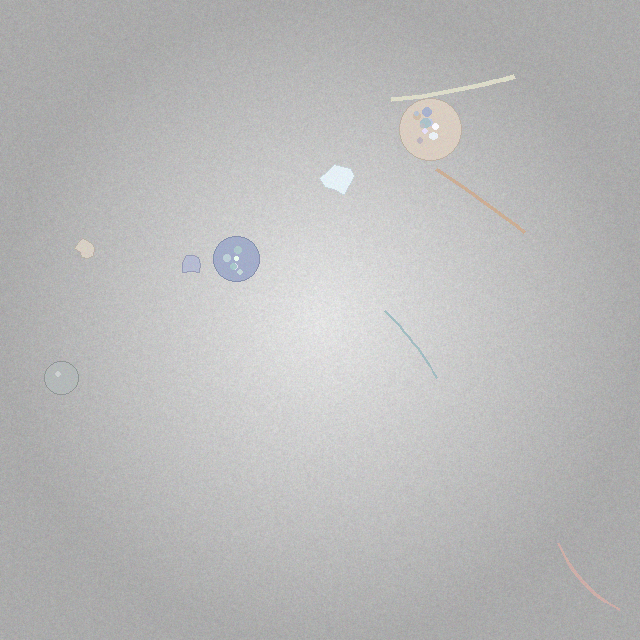fiber: (433, 165, 528, 236), (555, 540, 623, 613), (386, 71, 519, 105), (382, 308, 439, 380)
foam: (400, 98, 461, 160), (214, 236, 259, 281)
fragment: (319, 164, 355, 195), (74, 239, 94, 258), (182, 255, 201, 272)
pellet: (45, 361, 78, 395)
